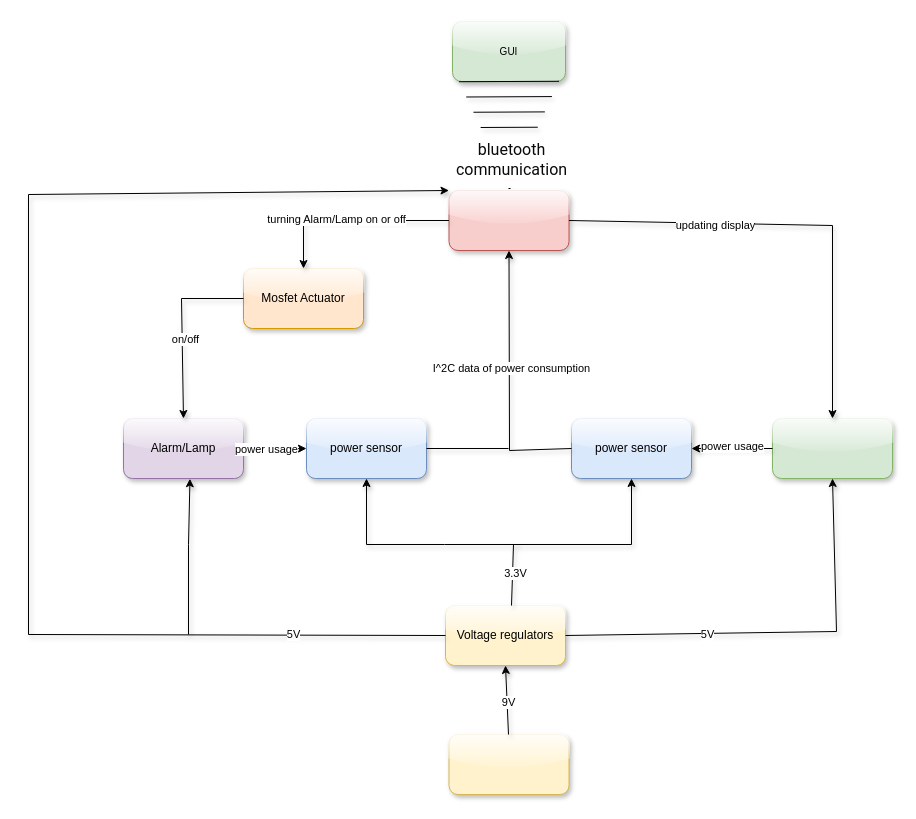
Image size: 916x819. Some labels were removed from this diagram. Each missing label, with the centre of its shape:
AC to DC power adaptor: point 509,766
LCD Display: point 833,450
MCU: point 509,222
